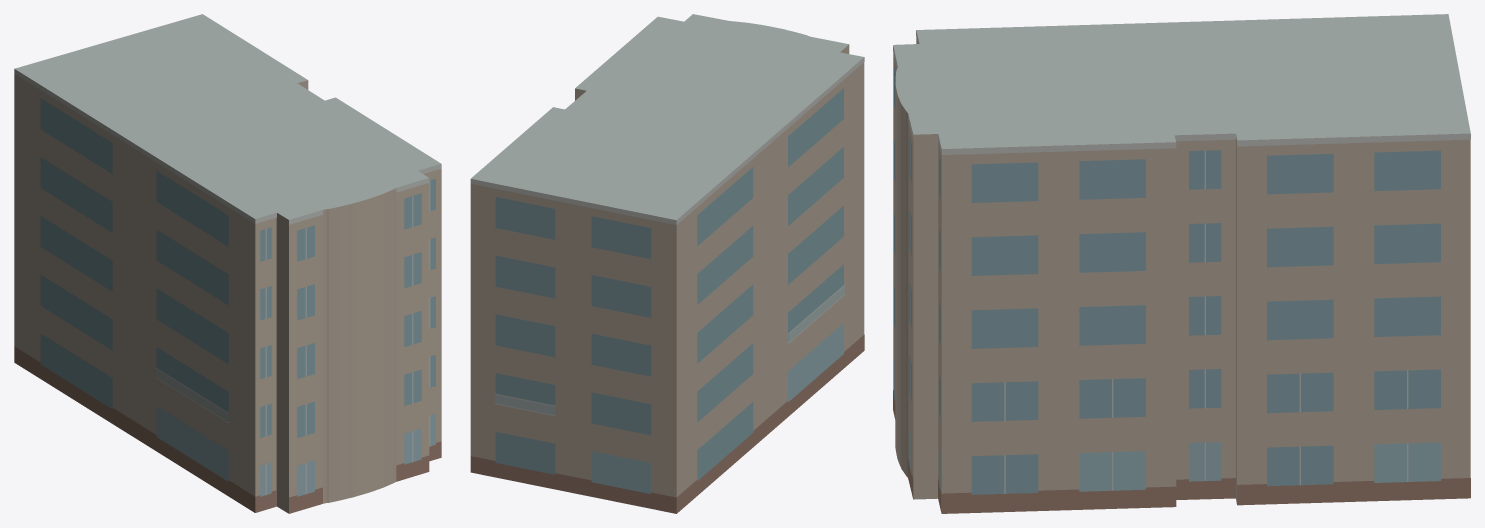
The model's file is survey-upis-32655274.glb.
3 views of the same model, side by side, from view 1: azimuth 30°, elevation 25°; view 2: azimuth 150°, elevation 25°; view 3: azimuth 270°, elevation 25° (orthographic). The views are drawn at different scales.
Parts seen in each view (by area): view 1: survey-upis-32655274.tmp; view 2: survey-upis-32655274.tmp; view 3: survey-upis-32655274.tmp.
Boxes of the visible parts, box(x1,y1,x2,y2) form: survey-upis-32655274.tmp: box(14, 14, 441, 513); survey-upis-32655274.tmp: box(470, 14, 864, 513); survey-upis-32655274.tmp: box(893, 14, 1470, 513).
Size of the model in its own units: 11.64 by 14.65 by 21.04.
